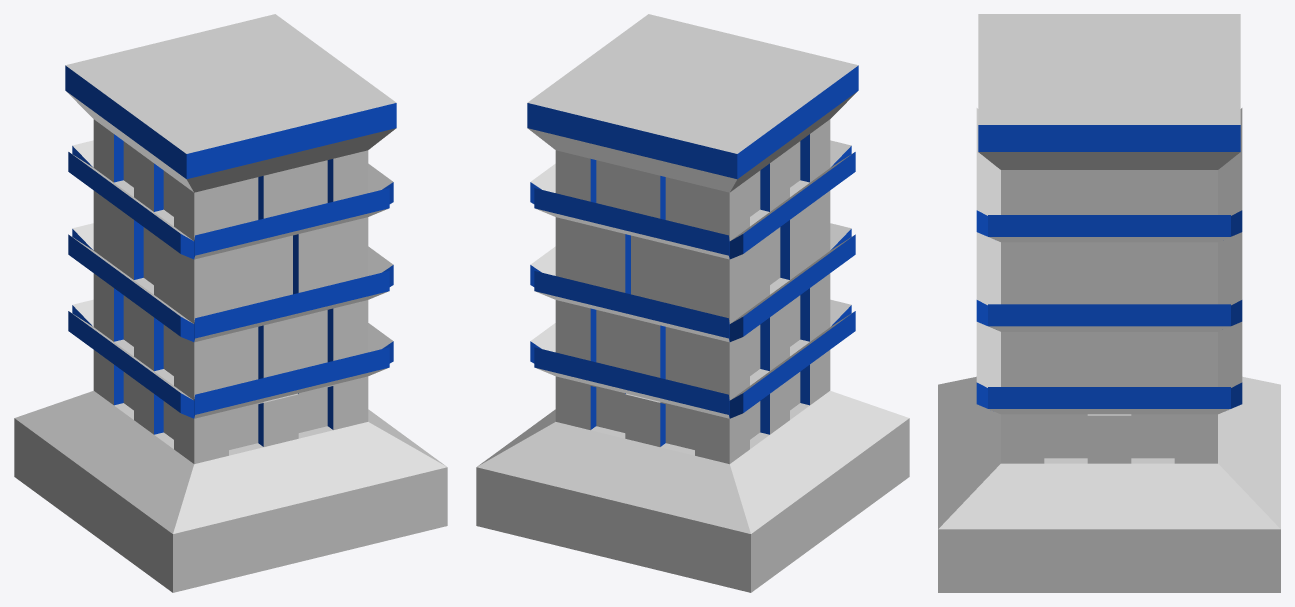
The model's file is UnderseaApartment_Lower.fbx.
3 renders of one model, left to right at view 1: azimuth 30°, elevation 25°; view 2: azimuth 150°, elevation 25°; view 3: azimuth 270°, elevation 25°, orthographic. The views are drawn at different scales.
Visible parts, largest first — view 1: UnderseaApartment_Lower; view 2: UnderseaApartment_Lower; view 3: UnderseaApartment_Lower.
Part boxes in pixels (x1,y1,x2,y2): UnderseaApartment_Lower: (14,14,447,592); UnderseaApartment_Lower: (476,14,909,592); UnderseaApartment_Lower: (938,14,1280,592).
Size of the model in its own units: 62.16 by 90.27 by 62.16.
